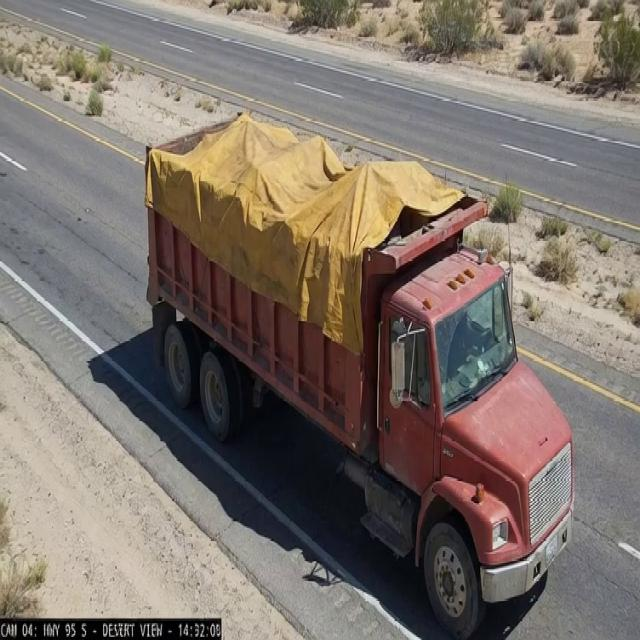trailer: (143, 110, 487, 275)
truck: (135, 100, 597, 621)
